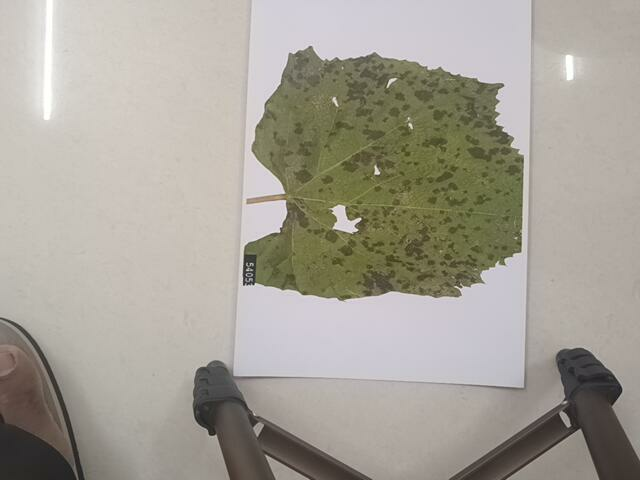Grape_Blight_Leaf: (247, 44, 528, 299)
